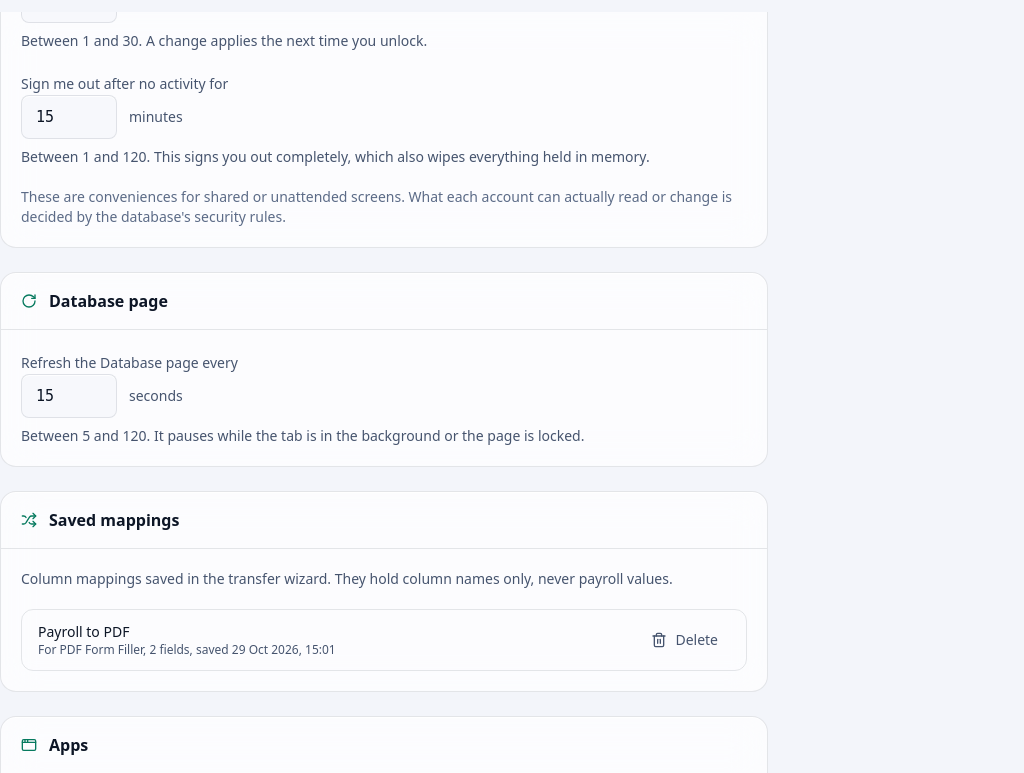
Scenario: Settings › lists saved mappings and deletes one
This screenshot has width=1024, height=773.
(page scrolled)
Expected: the text "Payroll to PDF" is shown, [38, 622, 129, 641]
Expected: the text "For PDF Form Filler, 2 fields, saved 29 Oct 2026, 15:01" is shown, [38, 641, 336, 658]
Click the button named "Delete the mapping \"Payroll to PDF\"" at x=685, y=640, box [639, 624, 730, 656]
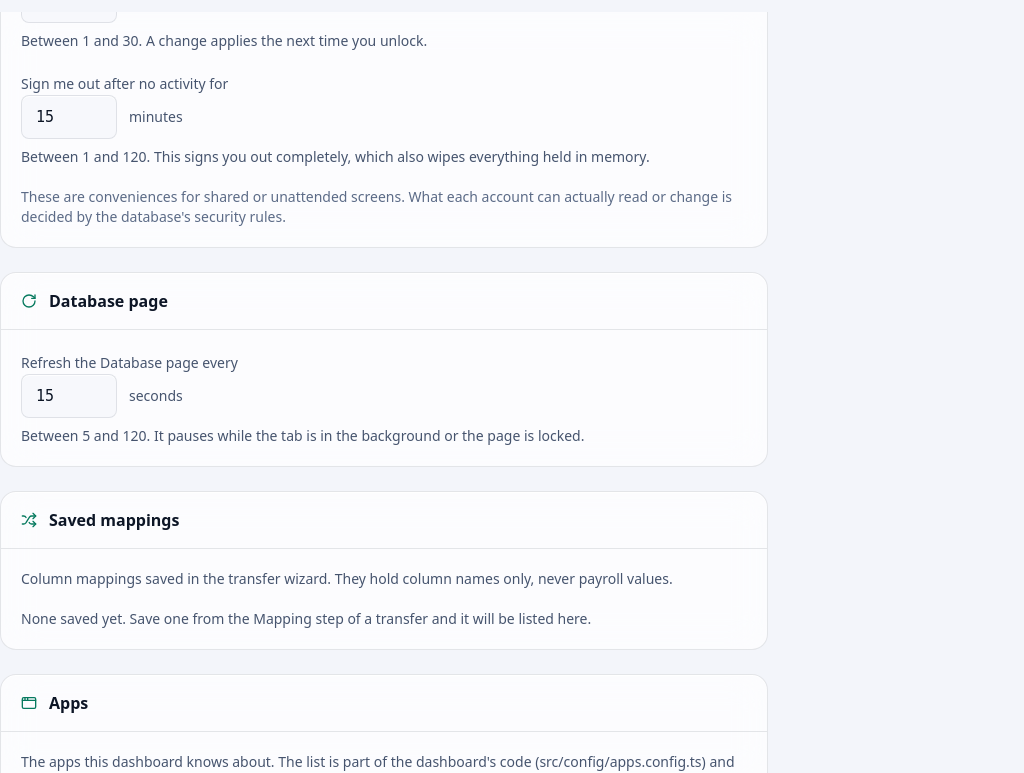
Expected: the text "Payroll to PDF" is gone
